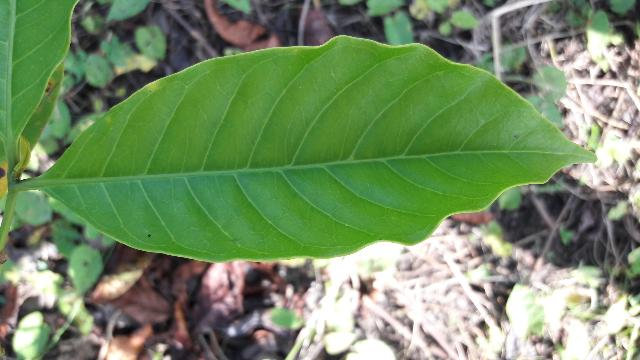healthy: (34, 35, 600, 264)
